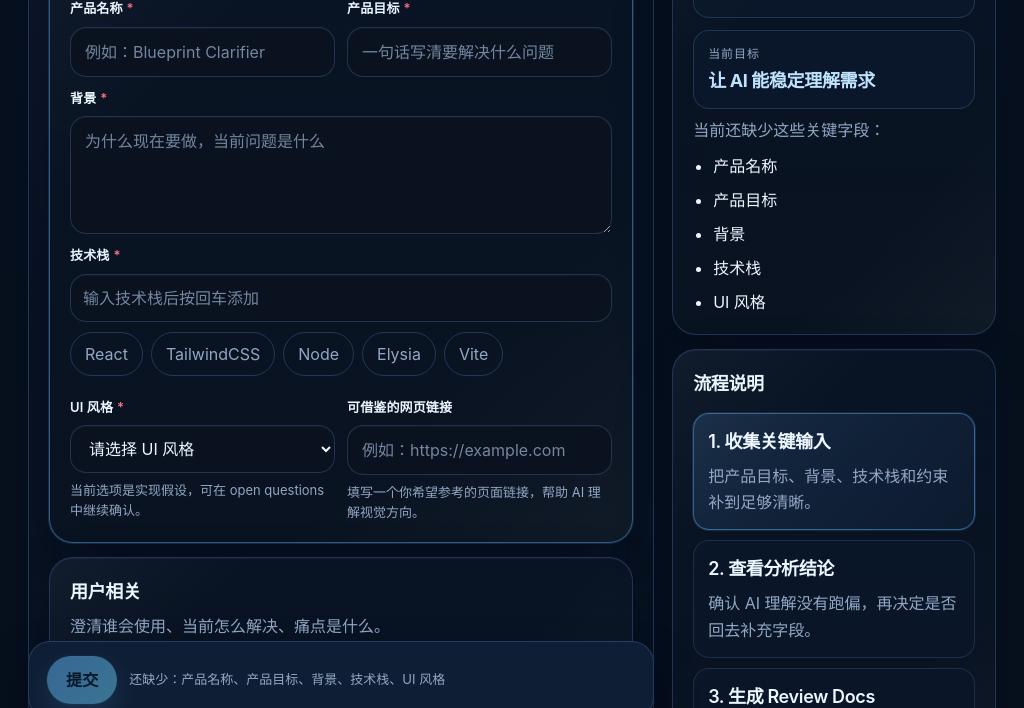
Test: App › adds preset tech stack tags into the tech stack field
(page scrolled)
Click the button with aria-label "添加 React".
click(106, 354)  # box [70,332,143,376]
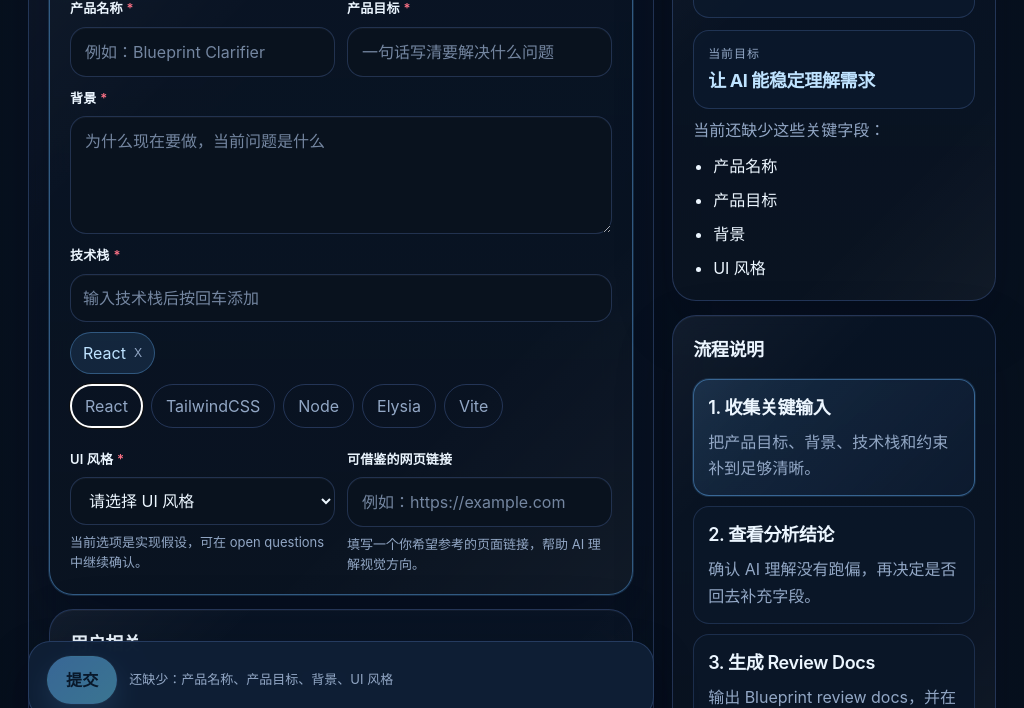
Click the button with aria-label "添加 Vite".
click(474, 406)  # box [444,384,503,428]
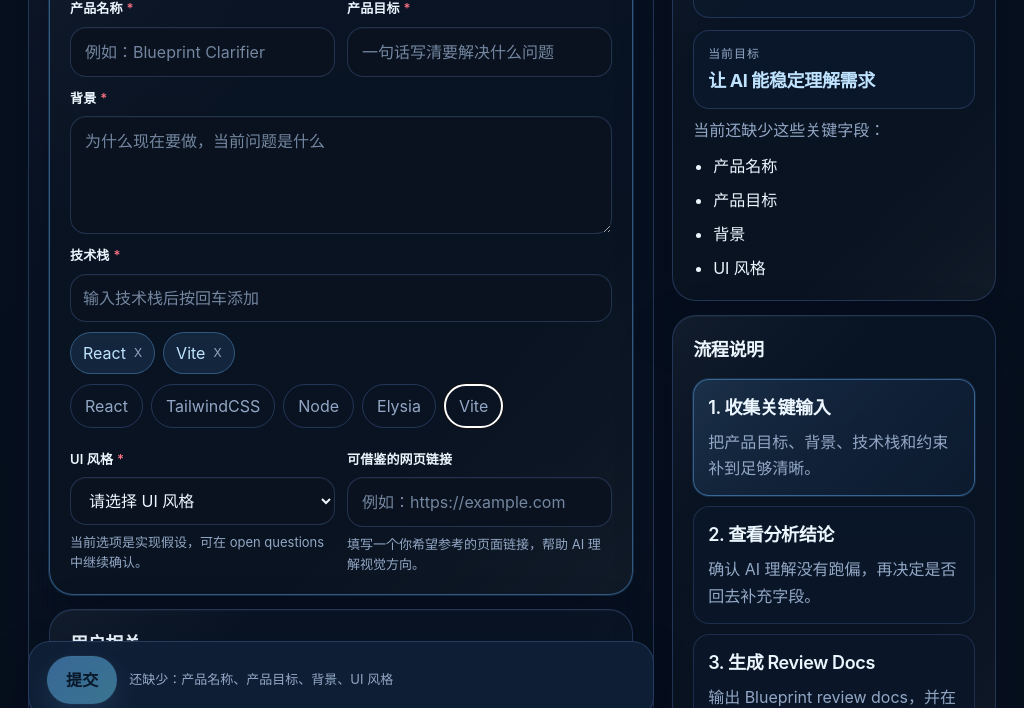
Expected: the field labelled "技术栈" is empty, [81,283,601,313]
Now the button with aria-label "移除 React" is shown, box [70,332,155,374]
Now the button with aria-label "移除 Vite" is shown, box [163,332,235,374]
